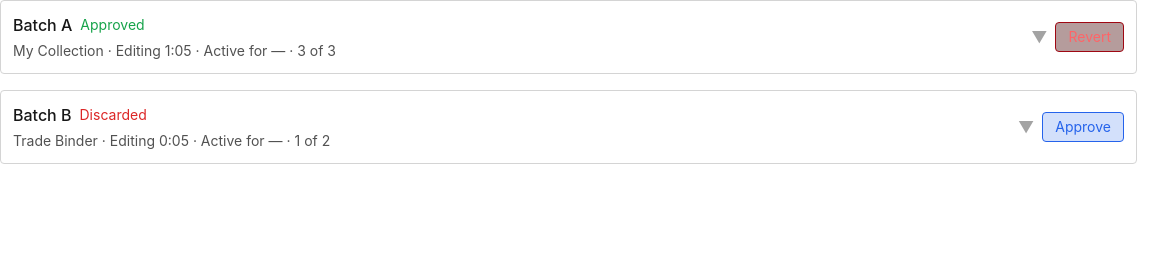
Test: BatchHistoryList › clicking a batch header shows its card list
Click the button "Batch A": (43,25) [13, 13, 1048, 61]
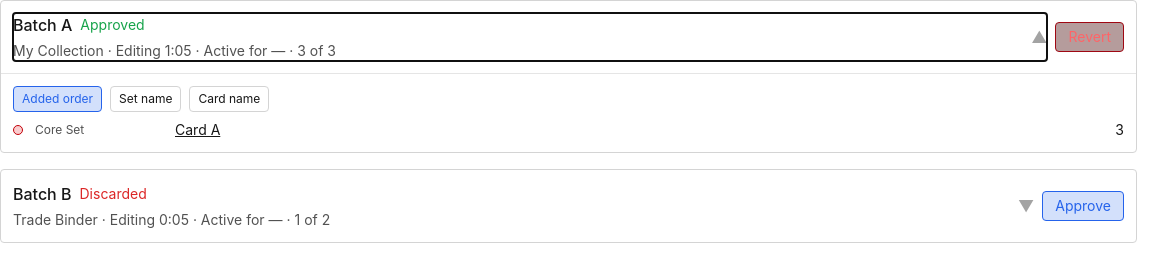
Expected: the button "Card A" is shown, [175, 120, 220, 140]
